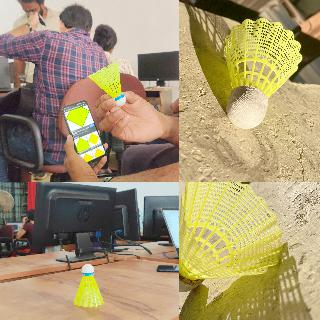shuttlecock: (179, 182, 283, 291), (222, 18, 302, 128), (87, 62, 125, 106), (73, 264, 103, 306)
